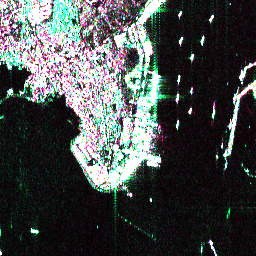ship: (206, 12, 216, 23), (198, 34, 206, 46), (173, 118, 180, 130), (177, 34, 184, 46), (176, 8, 184, 18), (187, 85, 195, 95), (186, 105, 194, 115), (29, 227, 40, 234), (173, 92, 180, 103), (210, 106, 216, 118), (176, 73, 181, 84), (189, 52, 195, 61)
